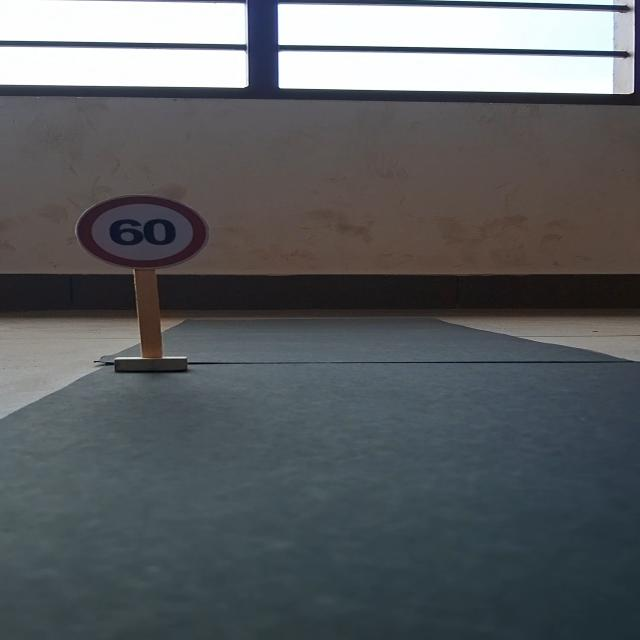Speed60: (75, 189, 211, 272)
